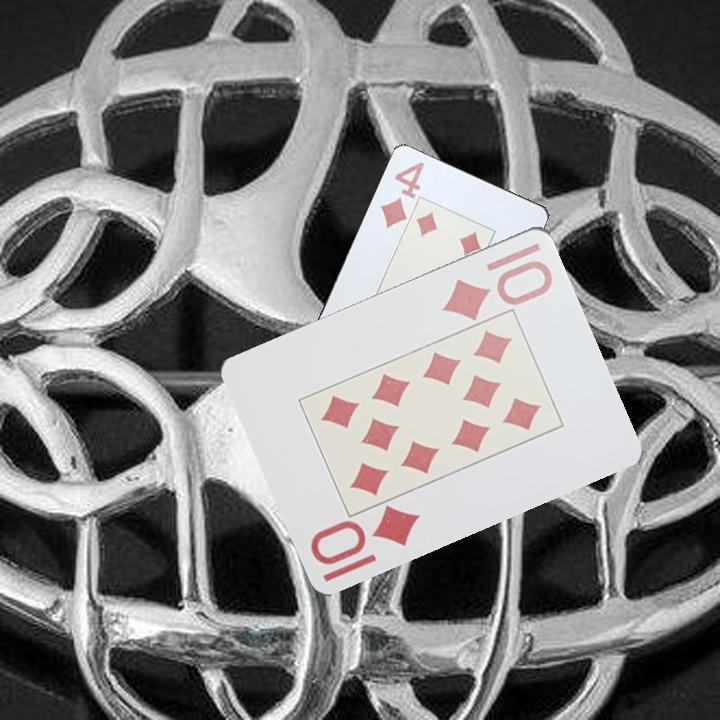4d: (377, 159, 428, 232)
Td: (438, 238, 556, 321), (306, 501, 423, 584)
